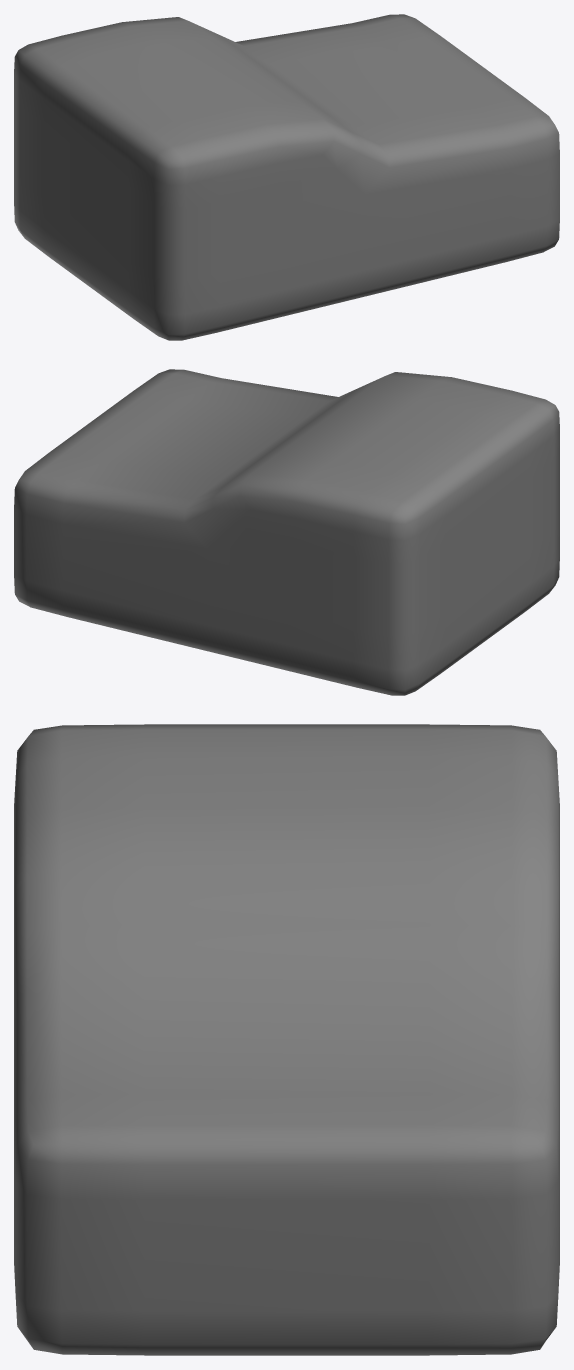
File: stone3.fbx
3 views of the same model, one above another, from view 1: azimuth 30°, elevation 25°; view 2: azimuth 150°, elevation 25°; view 3: azimuth 270°, elevation 25° (orthographic). The views are drawn at different scales.
Parts seen in each view (by area): view 1: Cube.037; view 2: Cube.037; view 3: Cube.037.
Boxes of the visible parts, x1,y1,x2,y2 form: Cube.037: (14,14,559,340); Cube.037: (14,369,559,695); Cube.037: (14,724,559,1355).
Bounding box in the file's own units: 0.8724 × 0.609 × 0.397.
